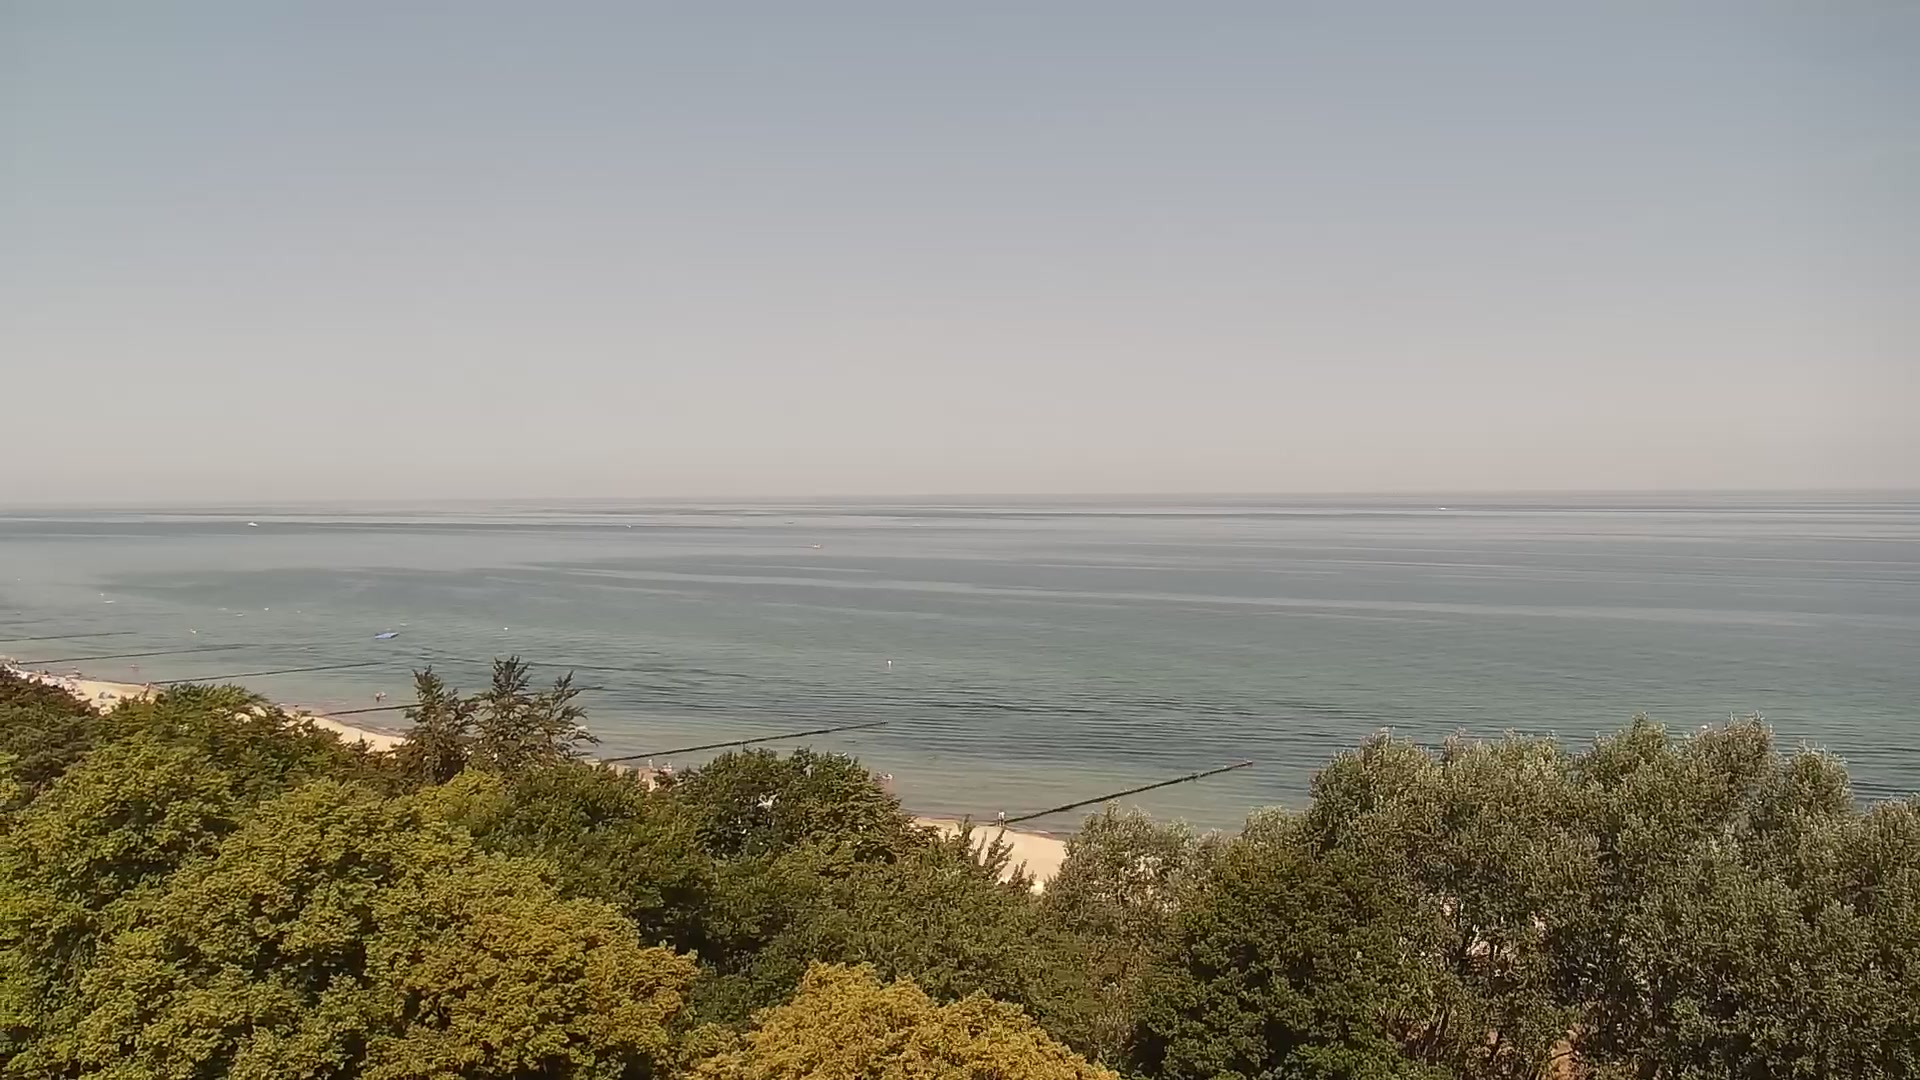human: (996, 809, 1007, 828), (647, 758, 654, 772), (375, 691, 381, 703)
sea: (870, 770, 894, 782), (245, 520, 259, 528)
